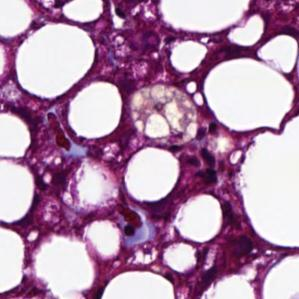inflammation: (182, 145, 219, 189)
